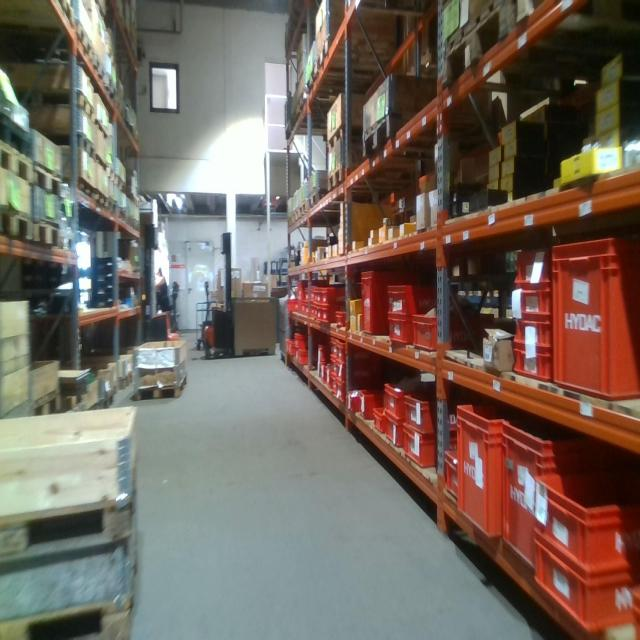pallet: (0, 485, 134, 566), (435, 1, 512, 91), (1, 595, 133, 638), (12, 25, 93, 73), (2, 85, 94, 126), (361, 110, 418, 160), (30, 133, 95, 163), (70, 47, 107, 88), (139, 370, 187, 401), (26, 386, 63, 426), (1, 208, 35, 250), (30, 153, 60, 199), (3, 109, 31, 158), (2, 144, 33, 188), (312, 40, 344, 80), (44, 180, 94, 204), (94, 59, 120, 102), (513, 1, 568, 21), (325, 125, 360, 156), (34, 221, 65, 256), (329, 164, 362, 192), (94, 389, 115, 421), (301, 69, 316, 107), (309, 190, 327, 215), (90, 150, 107, 172), (93, 190, 107, 214), (91, 120, 106, 139), (293, 205, 301, 224), (301, 200, 307, 225)
pallet_truck: (197, 223, 238, 362), (146, 224, 184, 344)
small_load_carrier: (501, 418, 609, 590), (550, 237, 637, 407), (532, 466, 637, 574), (532, 534, 637, 633), (458, 403, 518, 536), (361, 271, 406, 335), (413, 314, 484, 352), (509, 246, 560, 286), (384, 286, 439, 317), (407, 394, 446, 431), (509, 286, 552, 318), (405, 428, 438, 469), (514, 343, 551, 379), (384, 312, 416, 344), (384, 381, 410, 420), (383, 407, 408, 447), (514, 317, 552, 343), (359, 390, 384, 426), (445, 451, 461, 503), (371, 406, 388, 431), (631, 585, 639, 636), (319, 286, 341, 303), (347, 389, 361, 411), (321, 304, 338, 322), (336, 310, 356, 325), (296, 347, 309, 367), (296, 276, 306, 298), (337, 363, 349, 379), (338, 342, 347, 362), (337, 388, 350, 400), (332, 378, 339, 397), (332, 357, 338, 373), (333, 340, 338, 356)
